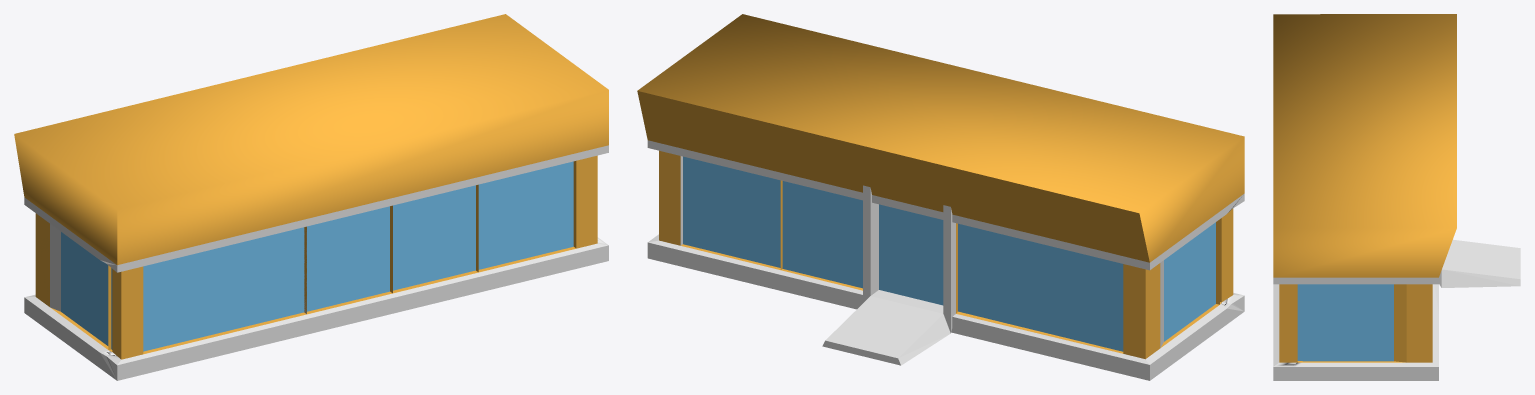
File: Shop6x2x2Orange.fbx
3 renders of one model, left to right at view 1: azimuth 30°, elevation 25°; view 2: azimuth 150°, elevation 25°; view 3: azimuth 270°, elevation 25°, orthographic. The views are drawn at different scales.
Visible parts, largest first — view 1: Shop.002; view 2: Shop.002; view 3: Shop.002.
Boxes of the visible parts, x1,y1,x2,y2 form: Shop.002: [14, 14, 608, 380]; Shop.002: [637, 14, 1244, 380]; Shop.002: [1273, 14, 1520, 380].
Bounding box in the file's own units: 5.94 × 1.98 × 2.91.
1 material, 1 textured.
